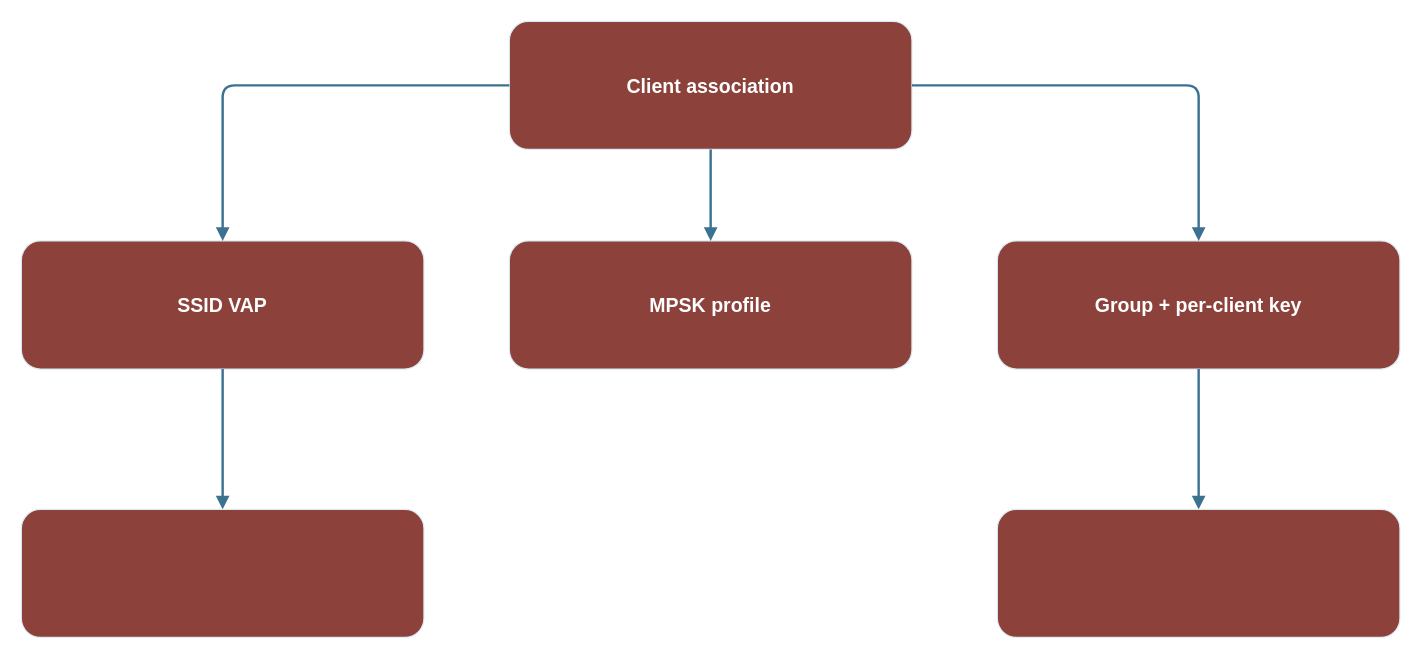
This 1421x659 diagram has some shape labels left out. Here are the shapes that lost their labels. From the top down, the box of each, then its label:
(20, 508, 424, 637): Dynamic VLAN mapping
(996, 508, 1400, 637): DHCP + firewall policy
